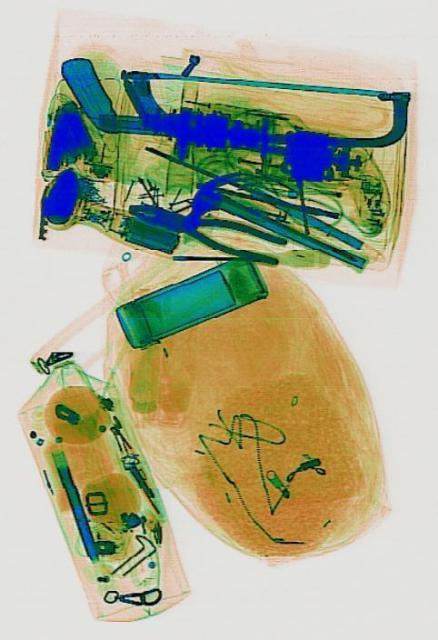Pliers: (123, 189, 285, 267)
